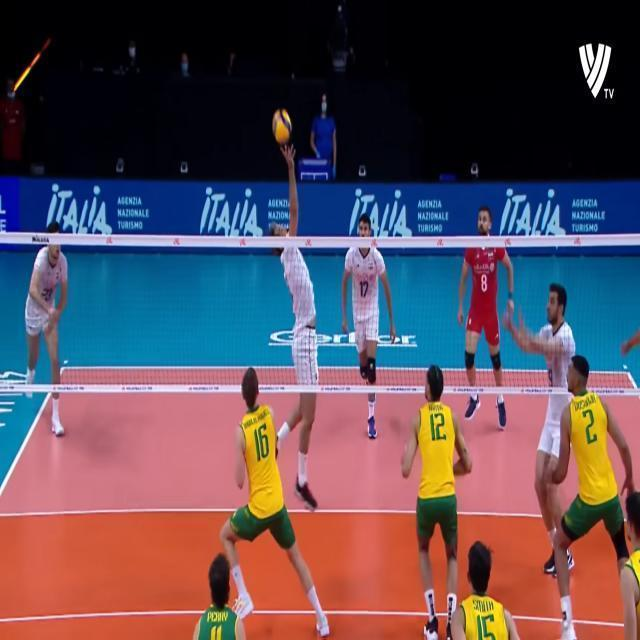volleyball: (271, 109, 292, 142)
